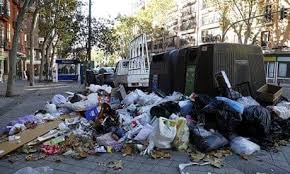garbage: (84, 80, 149, 153), (211, 98, 270, 153), (154, 93, 205, 152), (21, 109, 83, 152)
